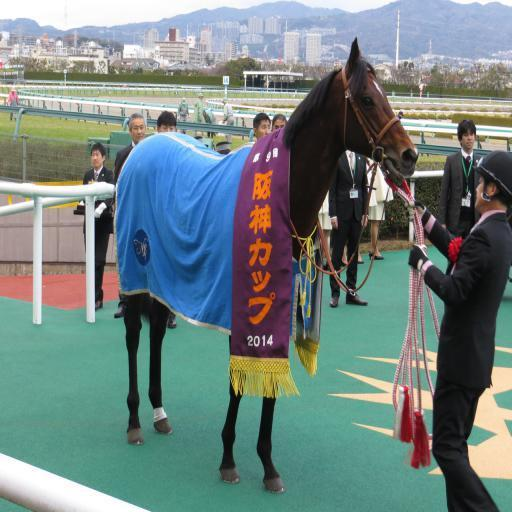horse: (126, 34, 419, 494)
